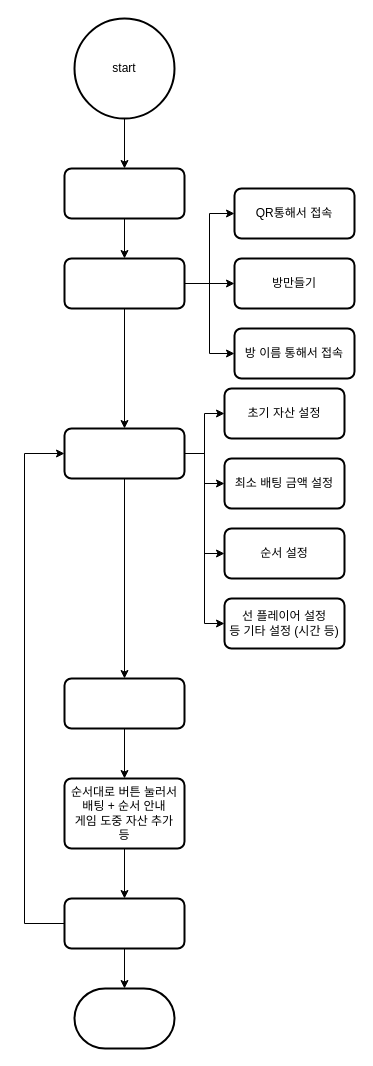
The diagram is 373 pixels wide and 1066 high, and some of its shapes have lost their labels. The shapes that lost their labels are listed below. From the top down, each one's centre as x and y in pixels, then its label:
At [124,193]: "초기 메인화면 접속".
At [124,283]: "접속 방식 설정".
At [124,453]: "방 접속".
At [124,703]: "게임 시작".
At [124,923]: "게임 결과 정산 및 자산 분배".
